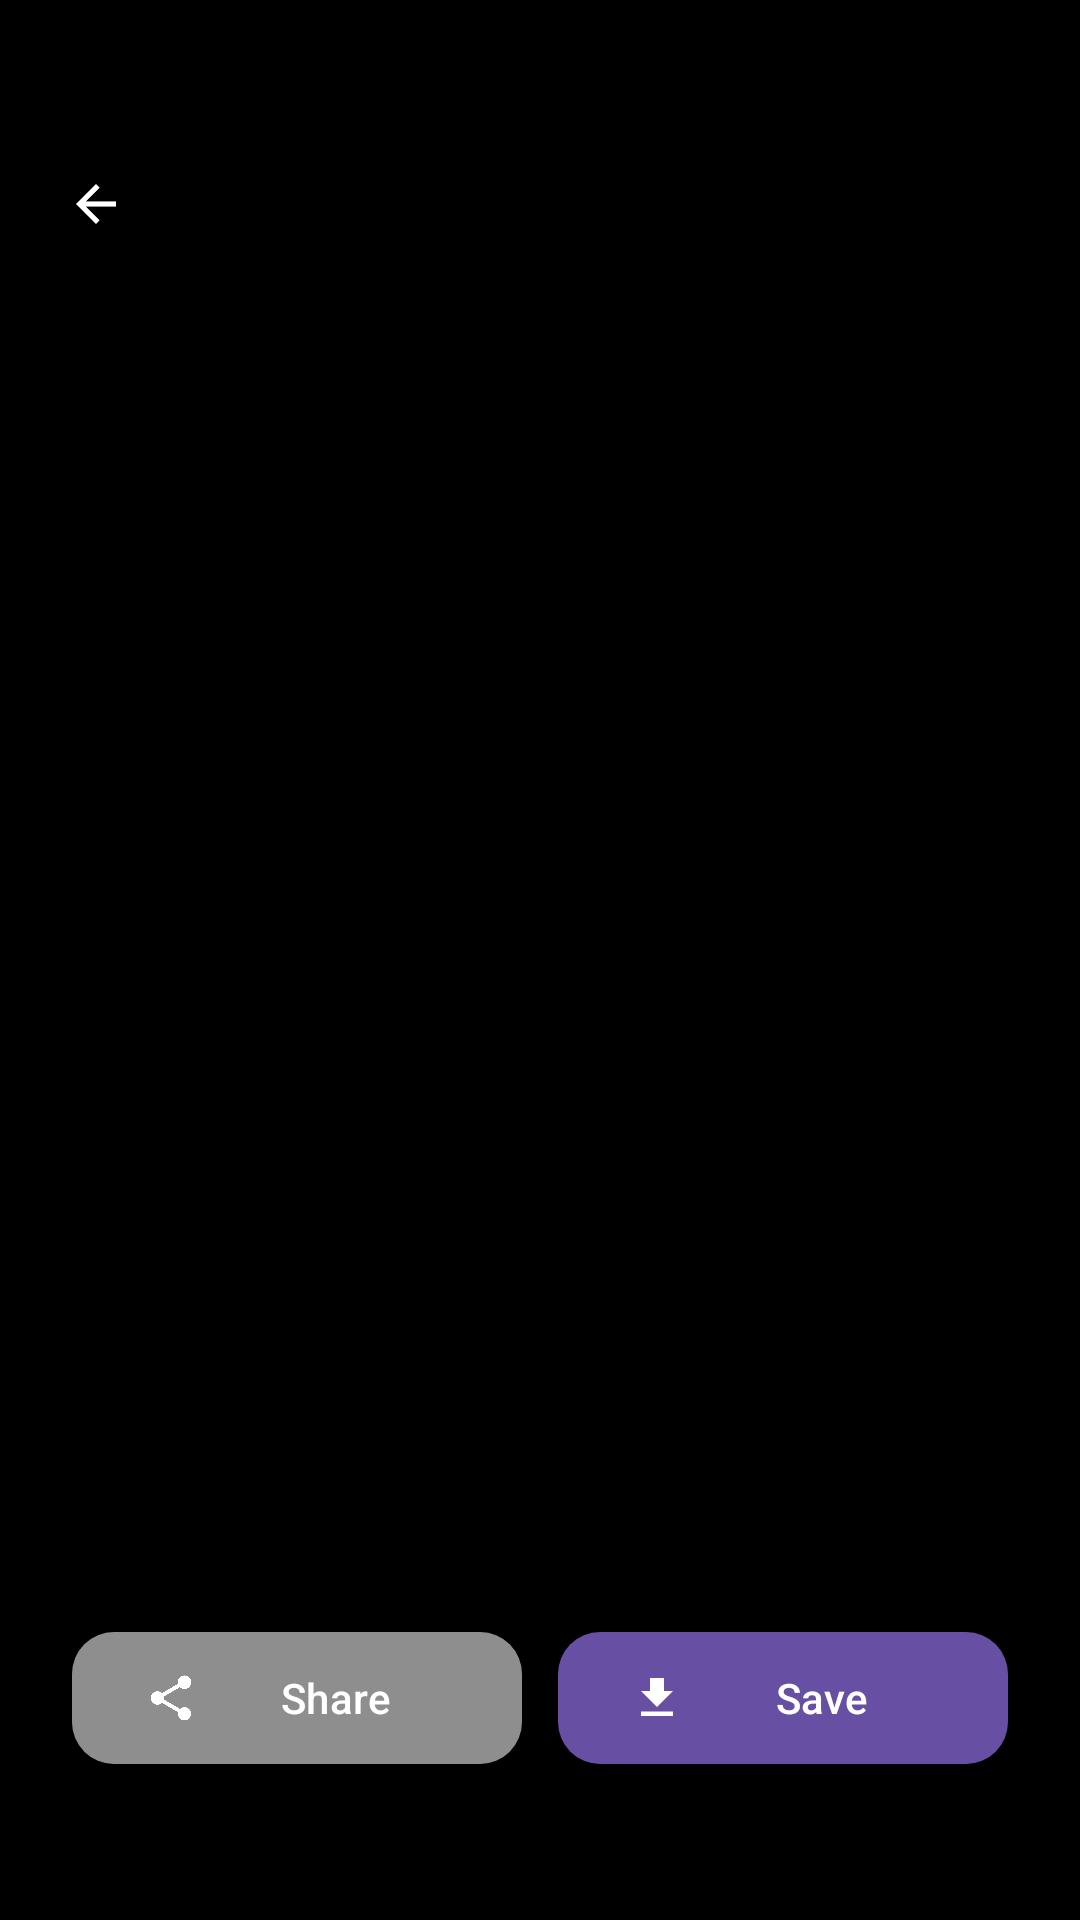

Named icons in this screenshot (1080 x 1920) and their centers, [x,y]:
arrow back: [96,204]
